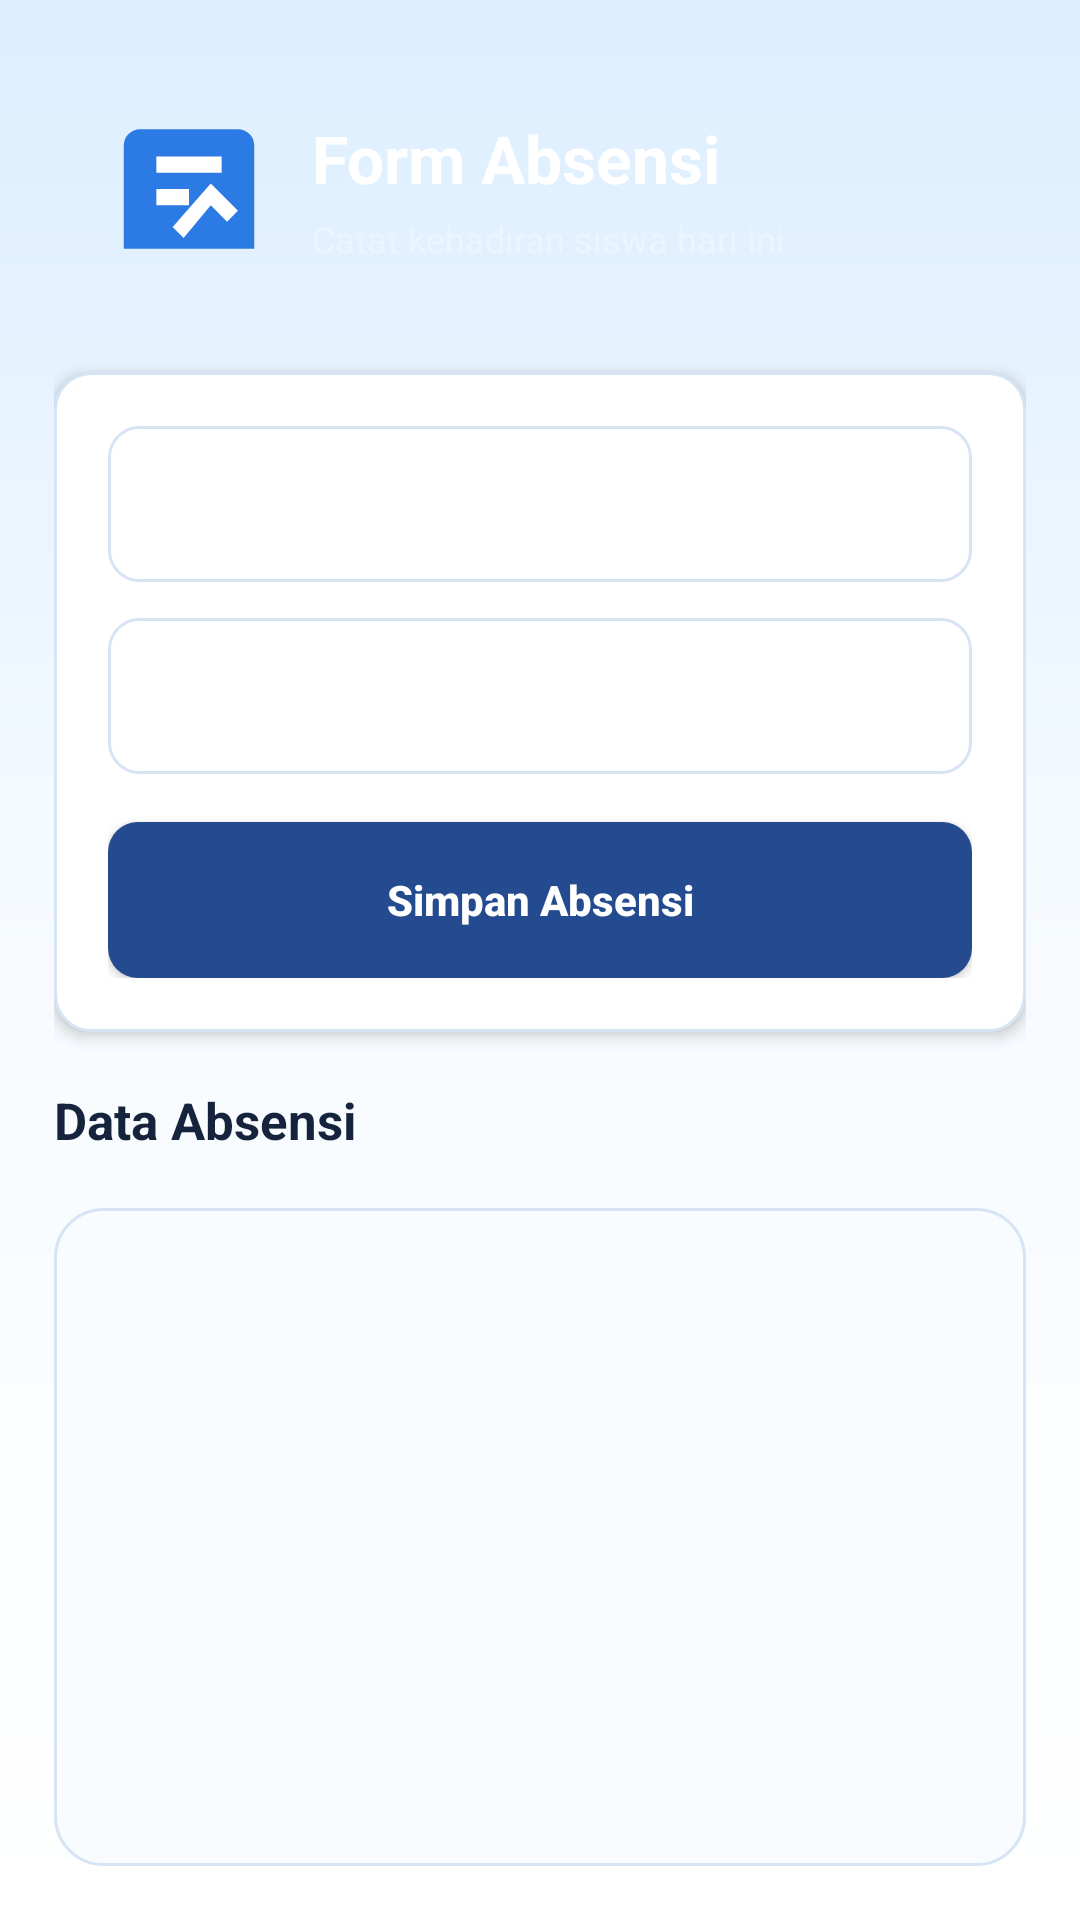

Icons on this 1080px×1920px Android screen, each with the point to tap as point (x, y):
Ikon absensi: point (189, 189)
